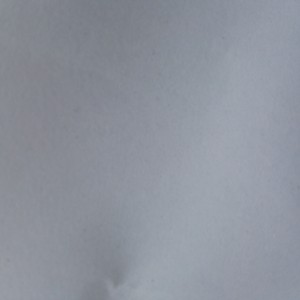back: (1, 1, 297, 299)
